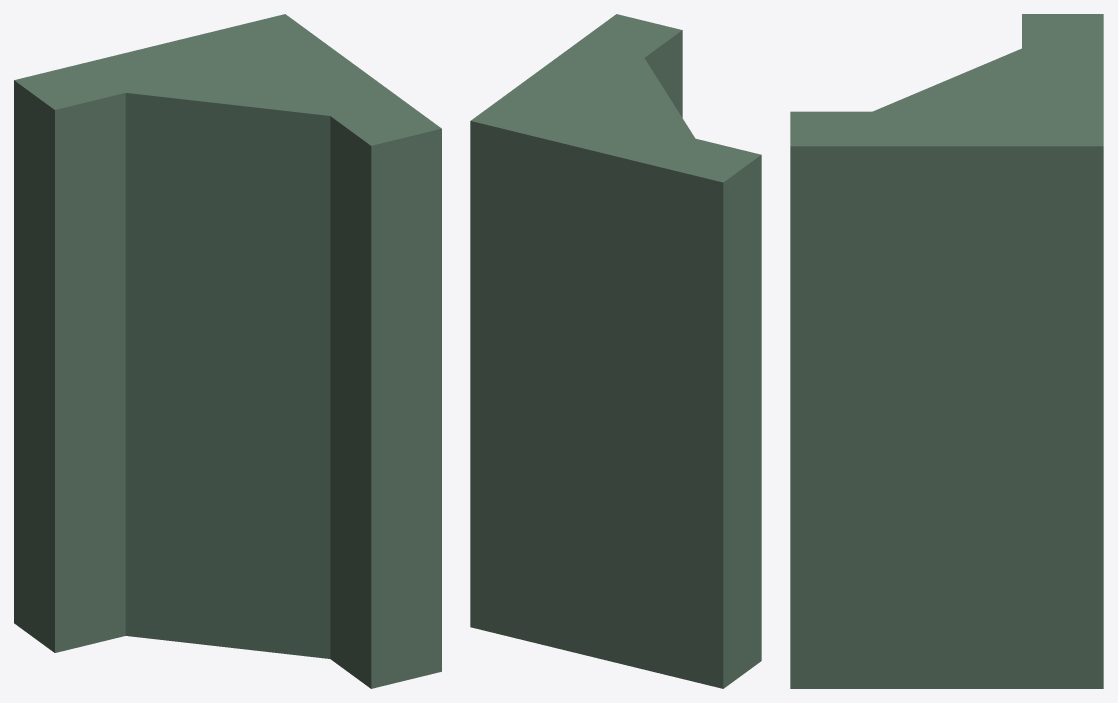
The model's file is W2_WallCorner_Angular1B.fbx.
3 views of the same model, side by side, from view 1: azimuth 30°, elevation 25°; view 2: azimuth 150°, elevation 25°; view 3: azimuth 270°, elevation 25° (orthographic). The views are drawn at different scales.
Visible parts, largest first — view 1: W2_WallCorner_Angular1B.001; view 2: W2_WallCorner_Angular1B.001; view 3: W2_WallCorner_Angular1B.001.
Boxes of the visible parts, x1,y1,x2,y2 form: W2_WallCorner_Angular1B.001: [14, 14, 441, 688]; W2_WallCorner_Angular1B.001: [470, 14, 761, 688]; W2_WallCorner_Angular1B.001: [790, 14, 1103, 688].
Size of the model in its own units: 1.15 by 2.2 by 1.15.
